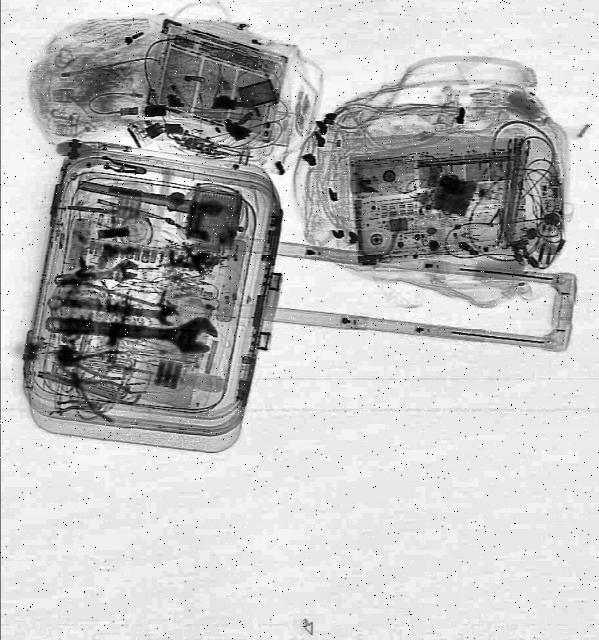Pliers: (32, 350, 136, 430), (50, 345, 130, 385)
Wrench: (45, 304, 221, 358), (47, 292, 178, 328), (52, 259, 140, 291)
